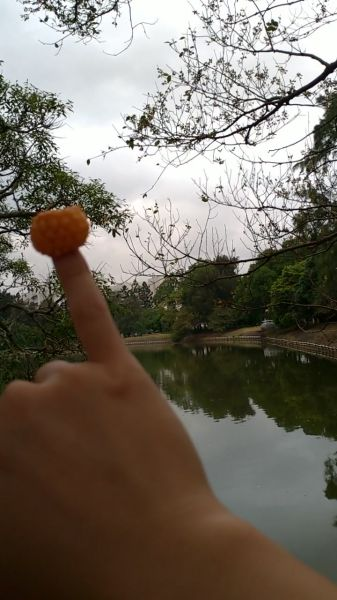eggs: (31, 206, 89, 255)
